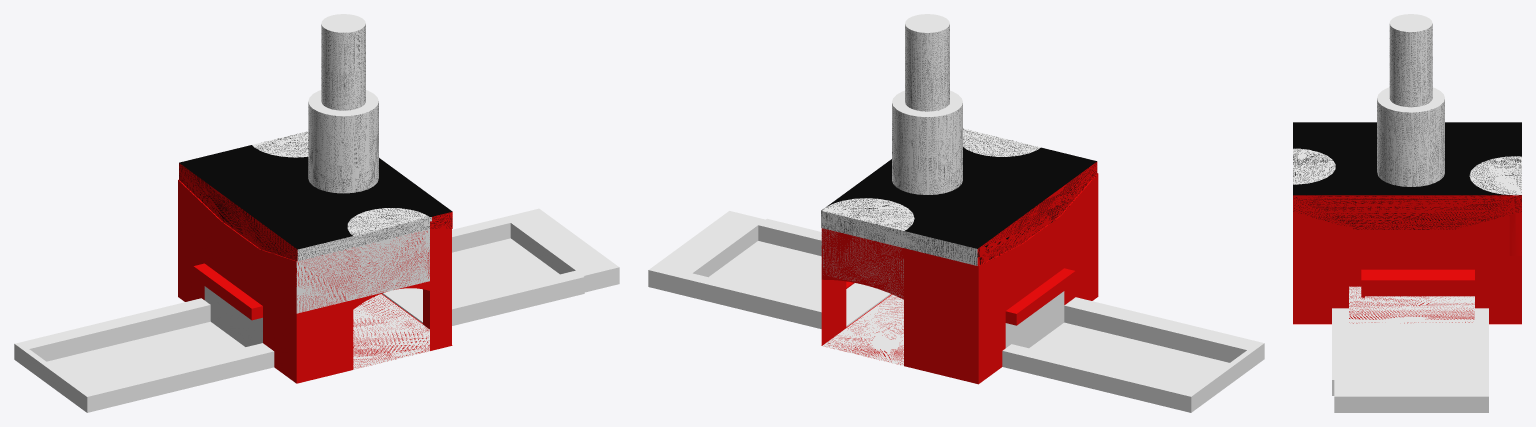
The model's file is farmbase.dae.
The picture shows the model from 3 angles, left to right: view 1: azimuth 30°, elevation 25°; view 2: azimuth 150°, elevation 25°; view 3: azimuth 270°, elevation 25°; orthographic projection. The views are drawn at different scales.
Visible parts, largest first — view 1: SketchUp (×15); view 2: SketchUp (×14); view 3: SketchUp (×12).
Part boxes in pixels (bbox=[...]): SketchUp (×15): bbox=[14, 14, 619, 412]; SketchUp (×14): bbox=[648, 14, 1264, 412]; SketchUp (×12): bbox=[1293, 14, 1521, 412].
Size of the model in its own units: 413 by 160 by 216.
